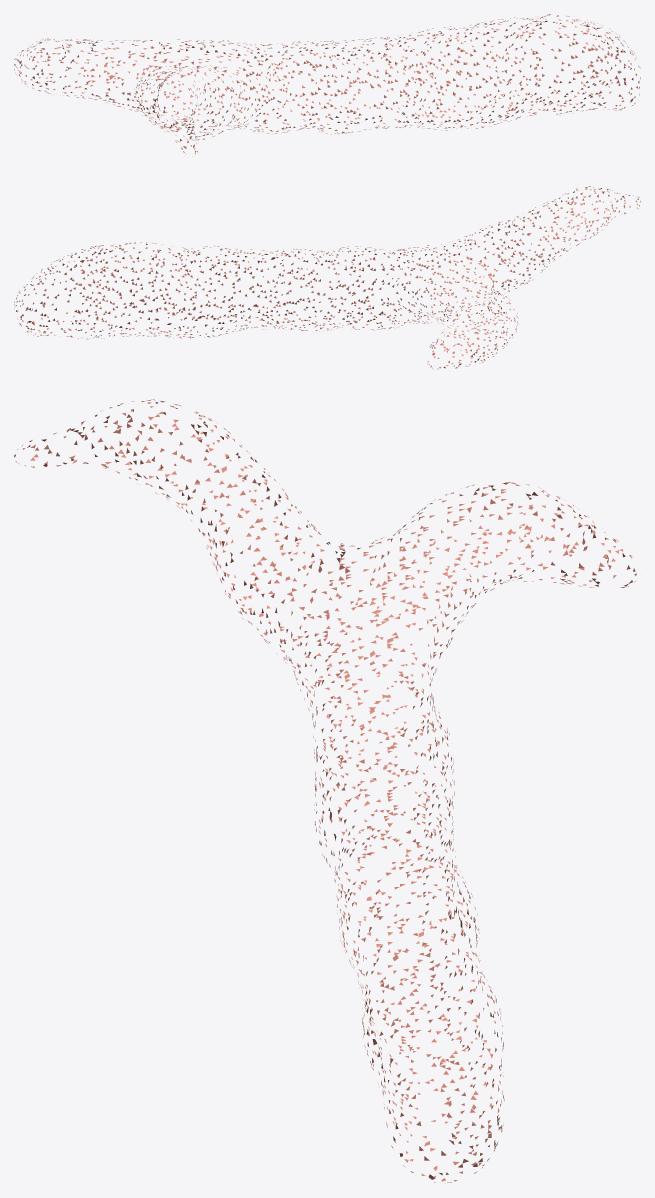
Rendered from morph_002.glb.
3 views of the same model, one above another, from view 1: azimuth 30°, elevation 25°; view 2: azimuth 150°, elevation 25°; view 3: azimuth 270°, elevation 25° (orthographic). The views are drawn at different scales.
Size of the model in its own units: 133 by 50.22 by 78.56.
